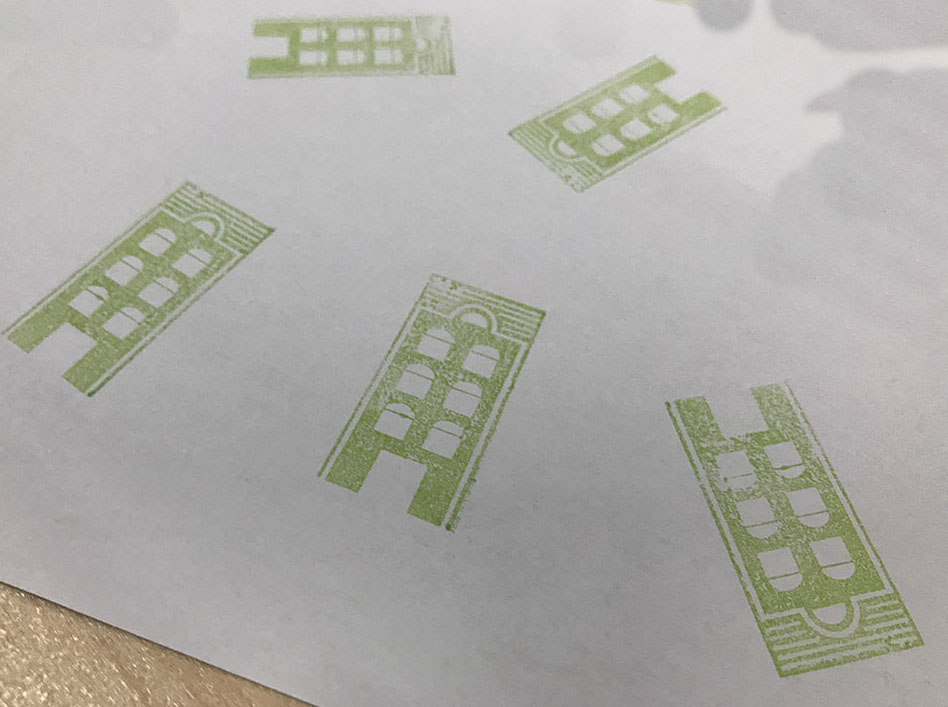build: (645, 375, 942, 684), (3, 158, 294, 433), (308, 242, 558, 557), (493, 45, 765, 221), (226, 5, 472, 102)
